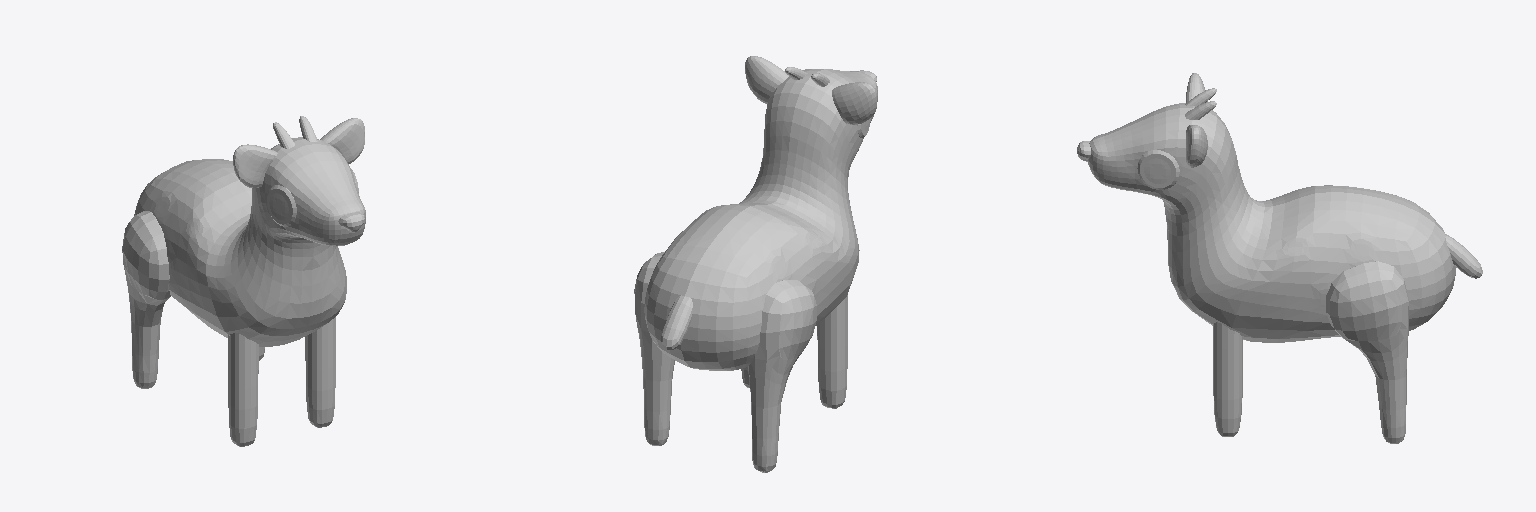
The model's file is Pudu_LOD0.obj.
The picture shows the model from 3 angles: view 1: azimuth 30°, elevation 25°; view 2: azimuth 150°, elevation 25°; view 3: azimuth 270°, elevation 25°; orthographic projection.
Parts seen in each view (by area): view 1: Mesh_Pudu_LOD0; view 2: Mesh_Pudu_LOD0; view 3: Mesh_Pudu_LOD0.
Part boxes in pixels (x1,y1,x2,y2): Mesh_Pudu_LOD0: (122, 116, 365, 446); Mesh_Pudu_LOD0: (634, 56, 877, 472); Mesh_Pudu_LOD0: (1077, 73, 1482, 443).
Bounding box in the file's own units: 0.5663 × 1.06 × 1.21.